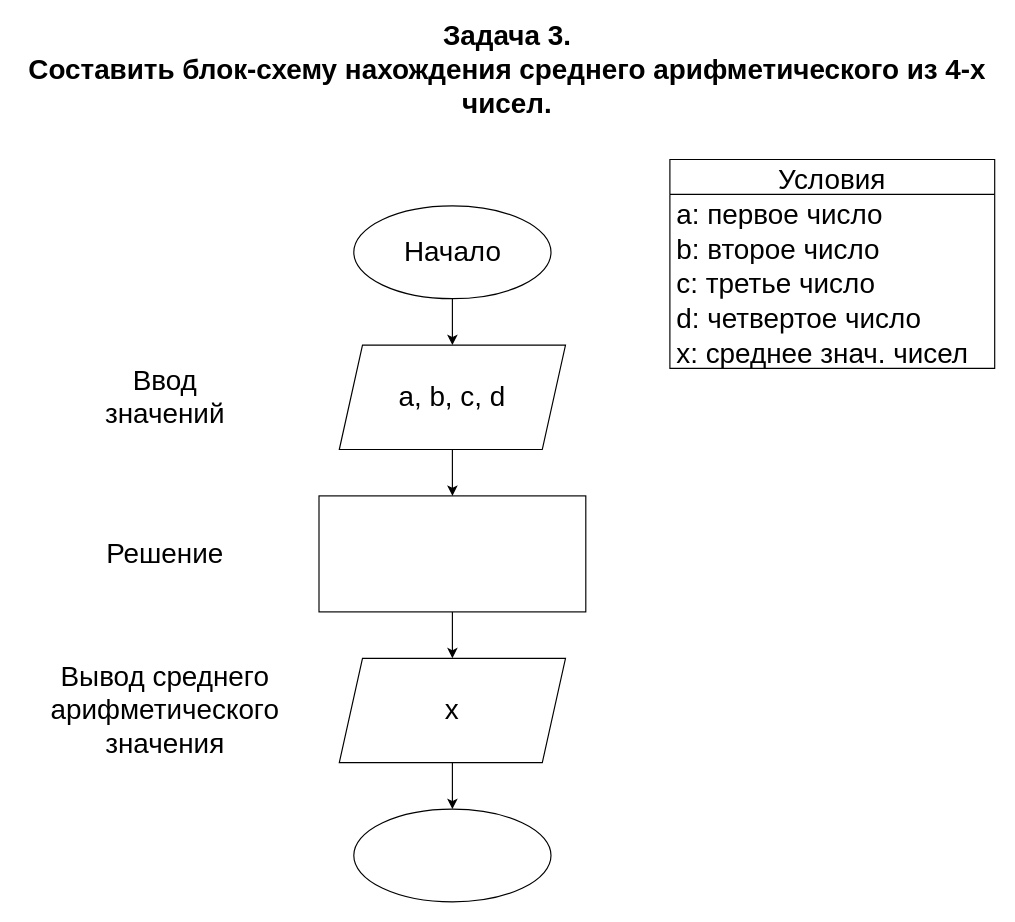
Image size: 1015x922. Some labels were removed from this diagram. The shapes that lost their labels are listed below. From the top down, each one's centre as x and y in pixels, then its label:
At pixel 452 553: "x=(a+b+c+d)/4".
At pixel 452 855: "Конец".
